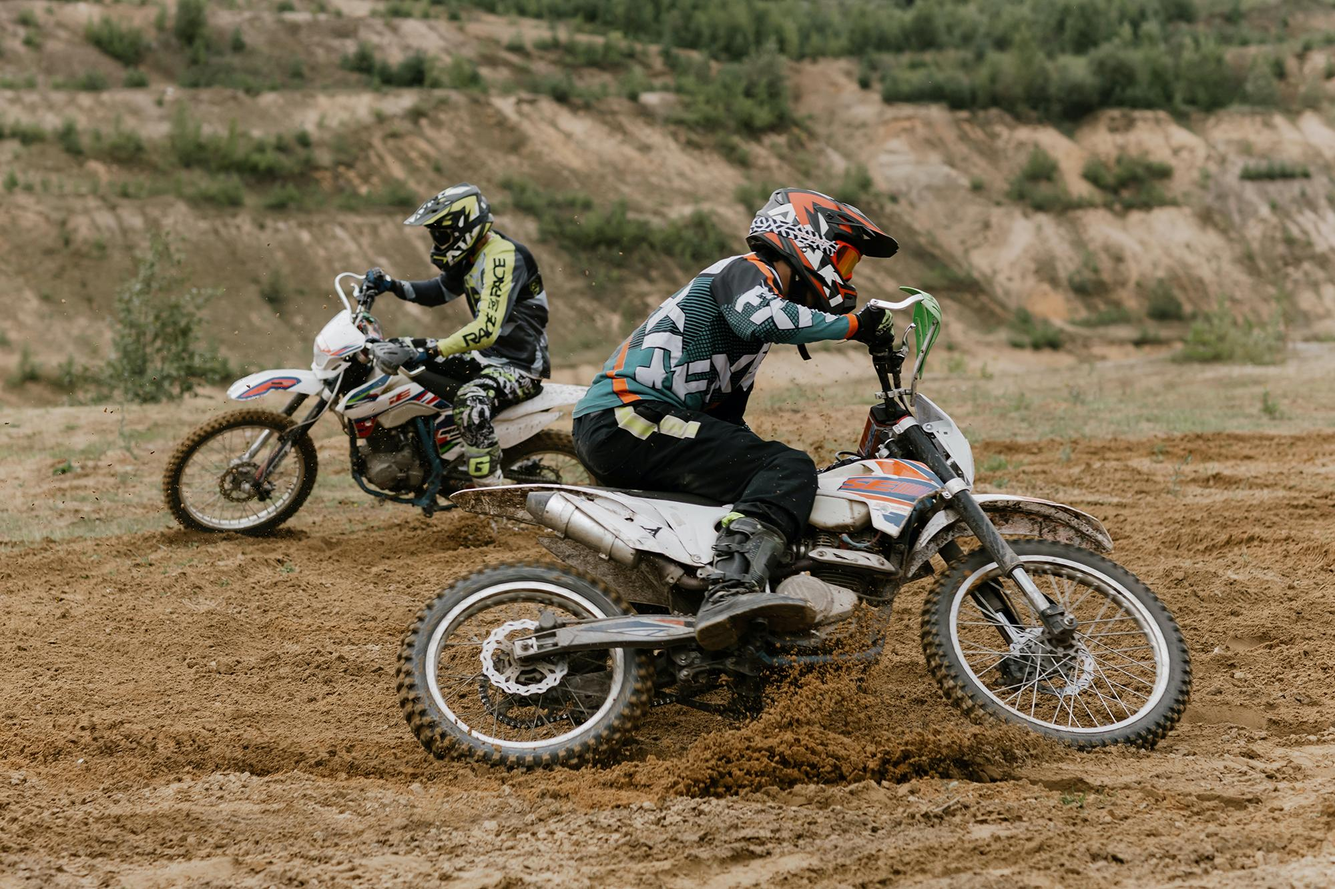helmet: (745, 186, 900, 324), (402, 181, 495, 273)
